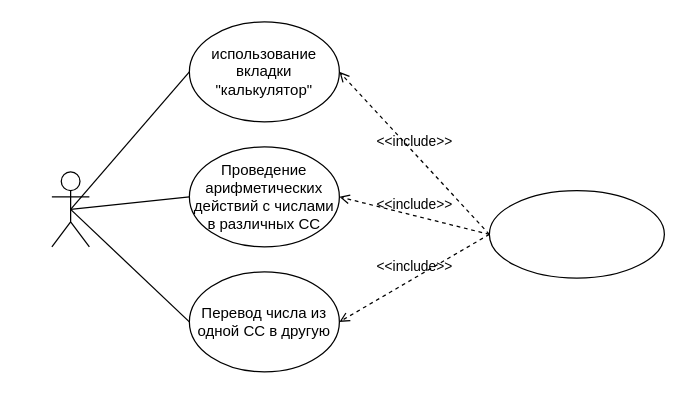
Image size: 686x394. Some labels were removed from this diagram. The centre of each missing label's shape, as x and y in pixels:
Пользователь: point 70,209
Посмотреть результат: point 576,233
